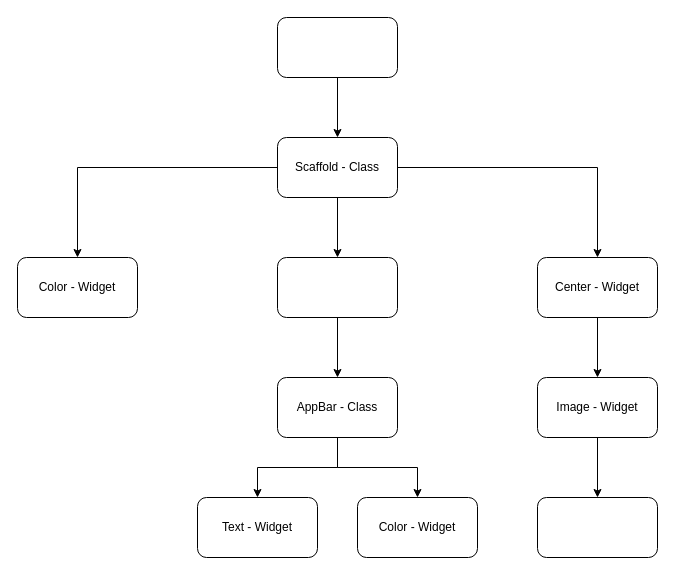
Some shapes in this 675 by 575 pixel diagram are drawn without their labels. The centre of each missing label's shape, as x and y in pixels:
"Material App" belongs at point (337, 47).
"NetworkImage - Class" belongs at point (597, 527).
"Scaffold" belongs at point (337, 287).
